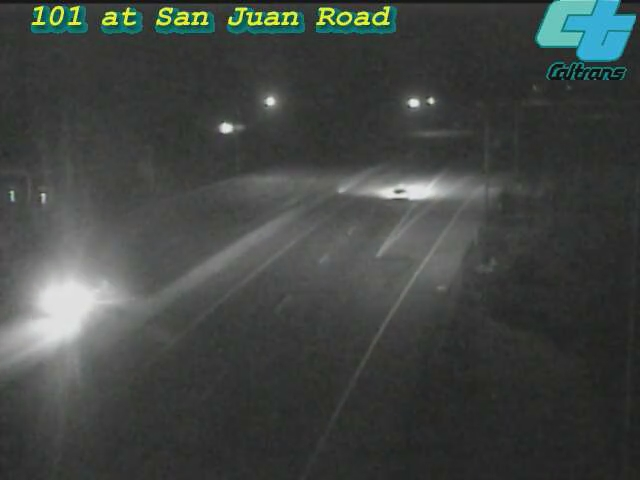vehicle: (359, 155, 439, 235), (20, 260, 100, 340)
